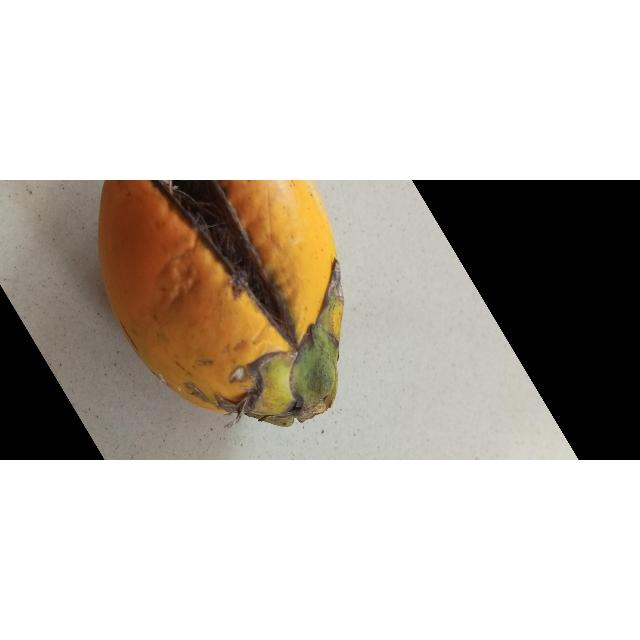damaged: (98, 180, 343, 428)
